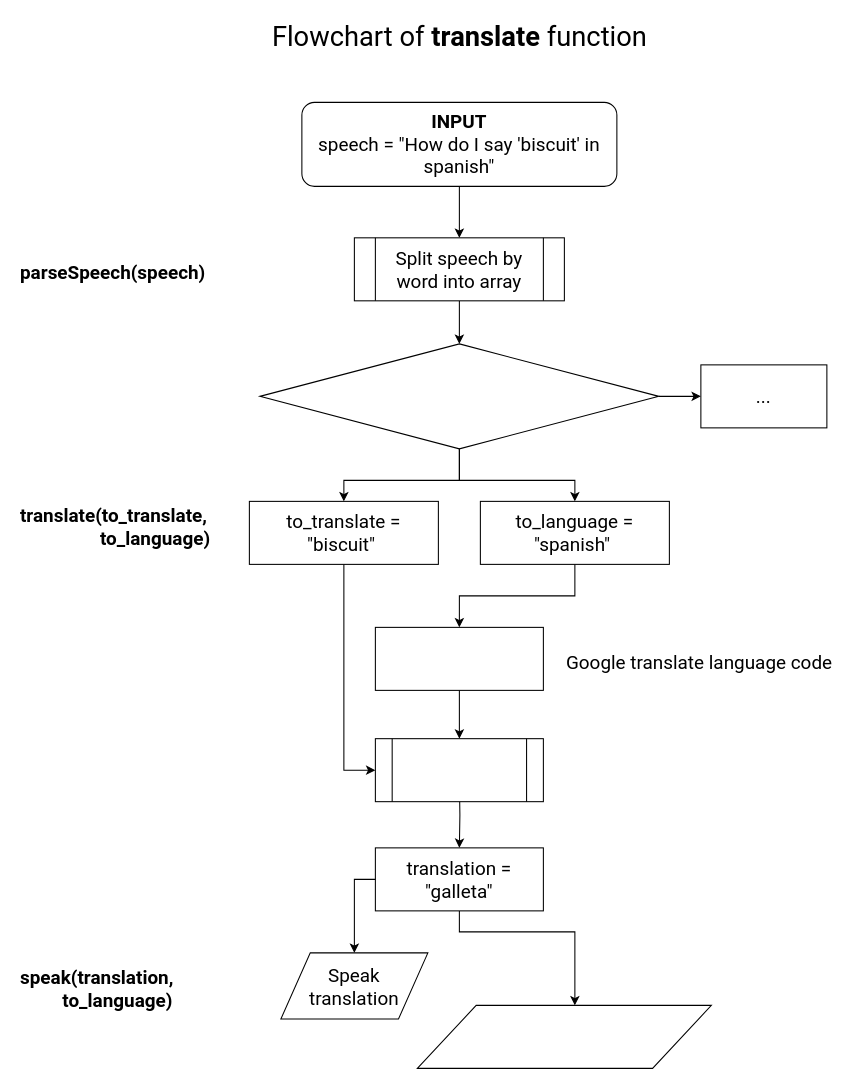
Image size: 849x1087. Some labels were removed from this diagram. The shapes that lost their labels are listed below. From the top down, each one's centre as x and y in pixels, then its label:
pixel 459 396: If speech includes "How do I say ... in"
pixel 458 658: to_language = "es"
pixel 458 770: Request translation
pixel 563 1036: Display translation in a popup
